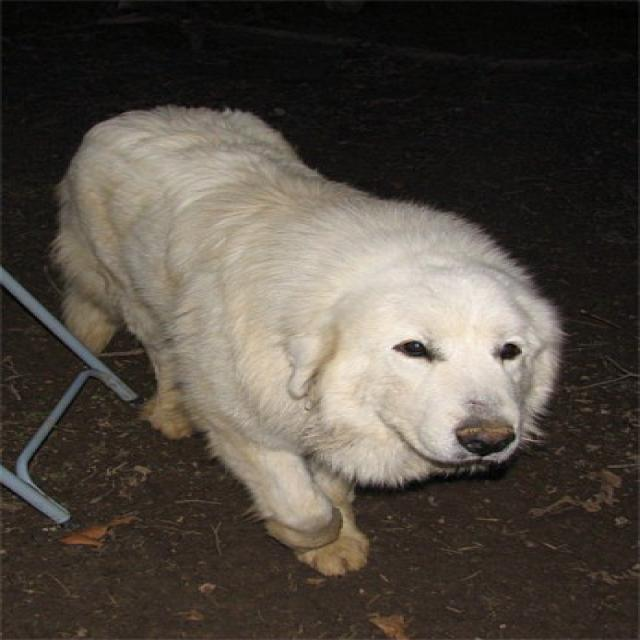dog-great_pyrenees: (42, 92, 577, 587)
